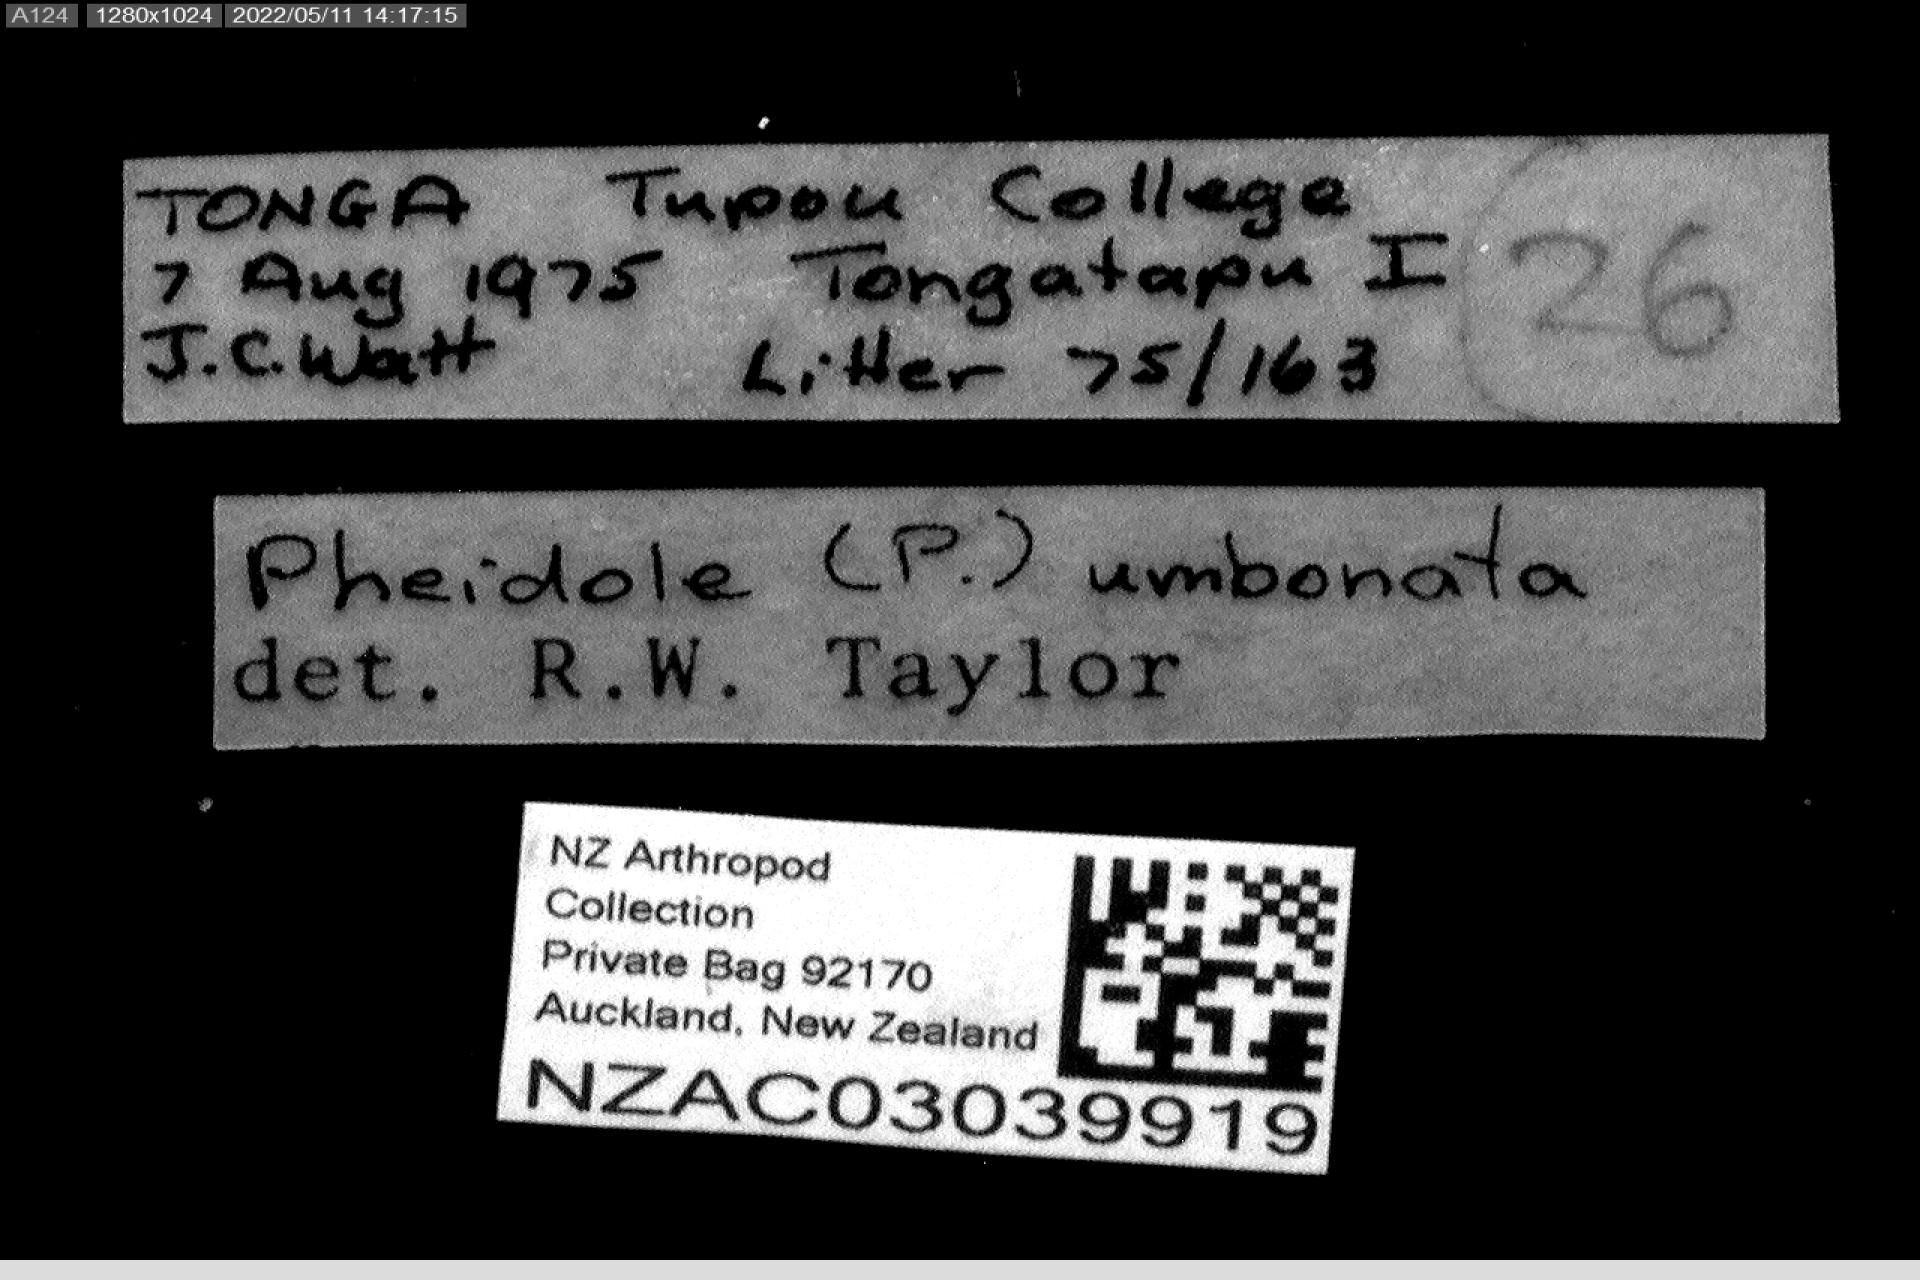hand_label: (124, 134, 1837, 421)
mixed_label: (214, 487, 1766, 750)
typed_label: (499, 803, 1354, 1171)
